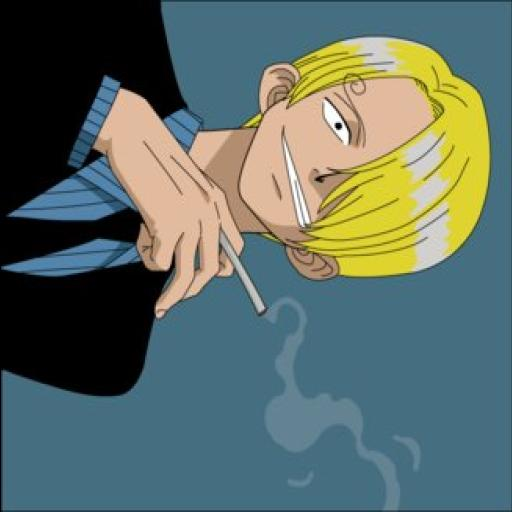sanji: (30, 0, 489, 415)
